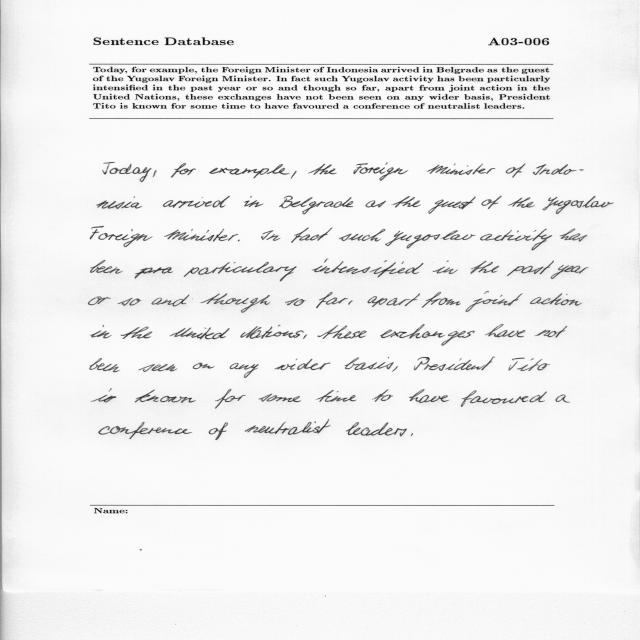word: (184, 262, 297, 281), (380, 324, 475, 346), (312, 259, 423, 277), (385, 230, 476, 249), (99, 422, 192, 439), (480, 229, 552, 250), (461, 390, 547, 407), (279, 196, 353, 215), (201, 293, 271, 313), (245, 419, 331, 435), (91, 226, 153, 247), (542, 196, 614, 214), (465, 291, 523, 312), (209, 164, 290, 178), (414, 357, 495, 371), (354, 162, 408, 181), (103, 162, 152, 182), (164, 229, 238, 242), (240, 325, 304, 339), (346, 422, 407, 436), (427, 163, 495, 175), (428, 197, 476, 214), (134, 390, 196, 403), (163, 196, 230, 208), (367, 293, 420, 307), (170, 328, 230, 340), (507, 261, 554, 276), (318, 325, 367, 339), (530, 293, 582, 306), (291, 227, 333, 243), (344, 357, 394, 370), (422, 292, 461, 308), (215, 389, 246, 409), (275, 359, 331, 370), (97, 196, 142, 209), (533, 164, 584, 175), (409, 389, 449, 403), (339, 229, 385, 241), (508, 358, 550, 371), (485, 325, 525, 338), (551, 265, 588, 279), (316, 292, 348, 308), (316, 390, 357, 402), (152, 295, 190, 307), (91, 260, 123, 274), (230, 363, 259, 378), (134, 267, 173, 278), (90, 358, 120, 372), (121, 326, 153, 339), (470, 261, 499, 274), (535, 326, 568, 337), (391, 196, 421, 208), (560, 229, 587, 242), (171, 163, 196, 177), (433, 260, 458, 274), (92, 389, 117, 403), (258, 394, 301, 402), (209, 423, 228, 440), (308, 164, 337, 175), (139, 364, 178, 372), (508, 197, 535, 208), (90, 325, 112, 338), (506, 163, 525, 178), (482, 196, 502, 209), (374, 389, 393, 402), (245, 196, 264, 207), (261, 230, 280, 241), (88, 297, 111, 306), (118, 298, 142, 306), (285, 298, 306, 306), (365, 201, 386, 208), (193, 363, 214, 369), (556, 395, 570, 403), (291, 171, 297, 179), (392, 366, 397, 372), (153, 170, 157, 177), (348, 300, 353, 305), (303, 334, 307, 339), (411, 434, 413, 437), (238, 240, 240, 242)
